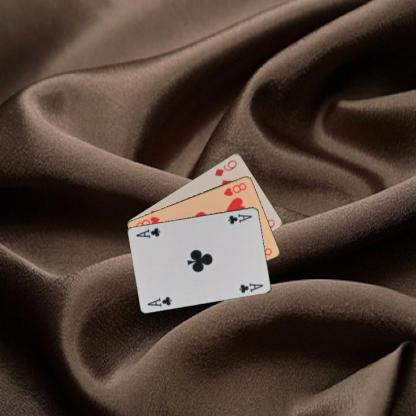8h: (221, 180, 248, 197)
9d: (212, 158, 238, 178)
Ac: (145, 293, 173, 308), (225, 211, 253, 225)
